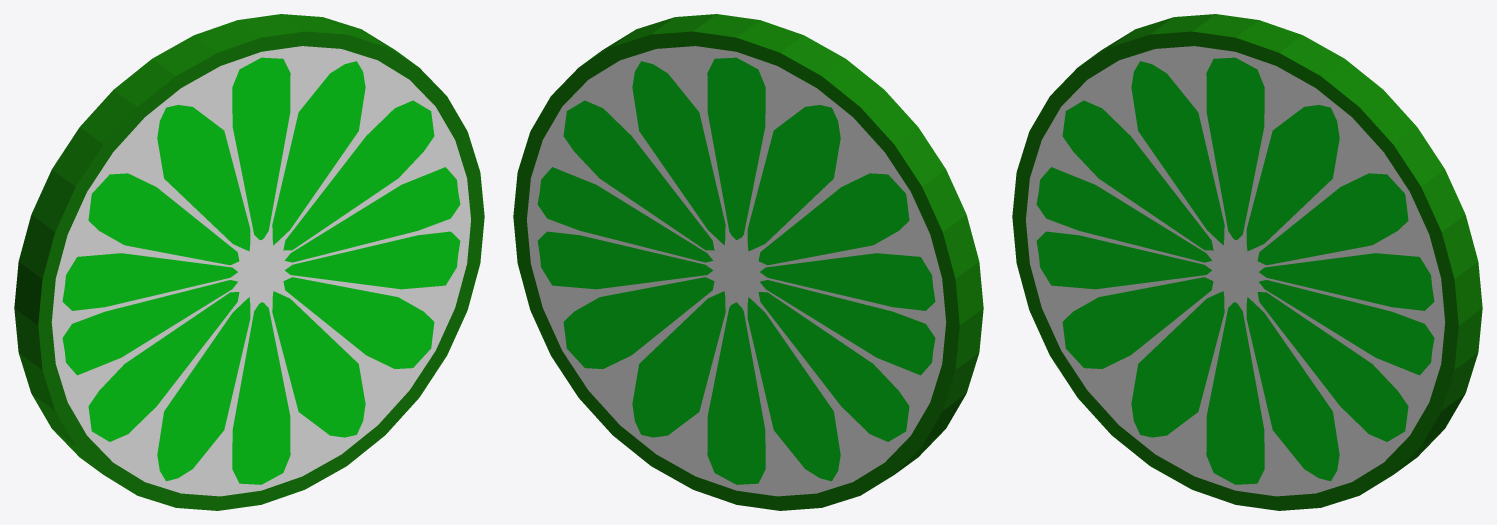
File: LimeSlice.fbx
The picture shows the model from 3 angles, left to right: view 1: azimuth 30°, elevation 25°; view 2: azimuth 150°, elevation 25°; view 3: azimuth 330°, elevation 25°; orthographic projection.
Parts seen in each view (by area): view 1: Lime Slice; view 2: Lime Slice; view 3: Lime Slice.
Part boxes in pixels (x1,y1,x2,y2): Lime Slice: [14, 14, 484, 510]; Lime Slice: [513, 14, 983, 510]; Lime Slice: [1012, 14, 1482, 510].
Bounding box in the file's own units: 2 × 0.1856 × 2.
